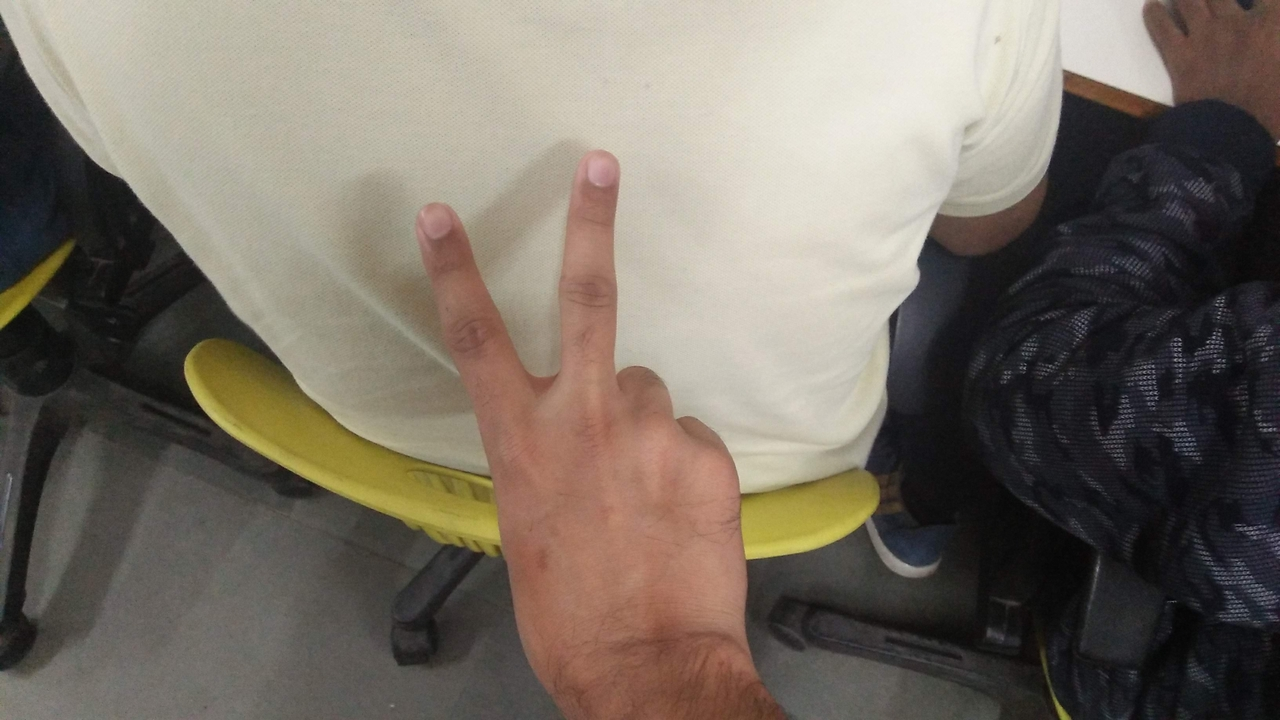fingertip: (404, 194, 468, 252), (566, 144, 622, 198)
